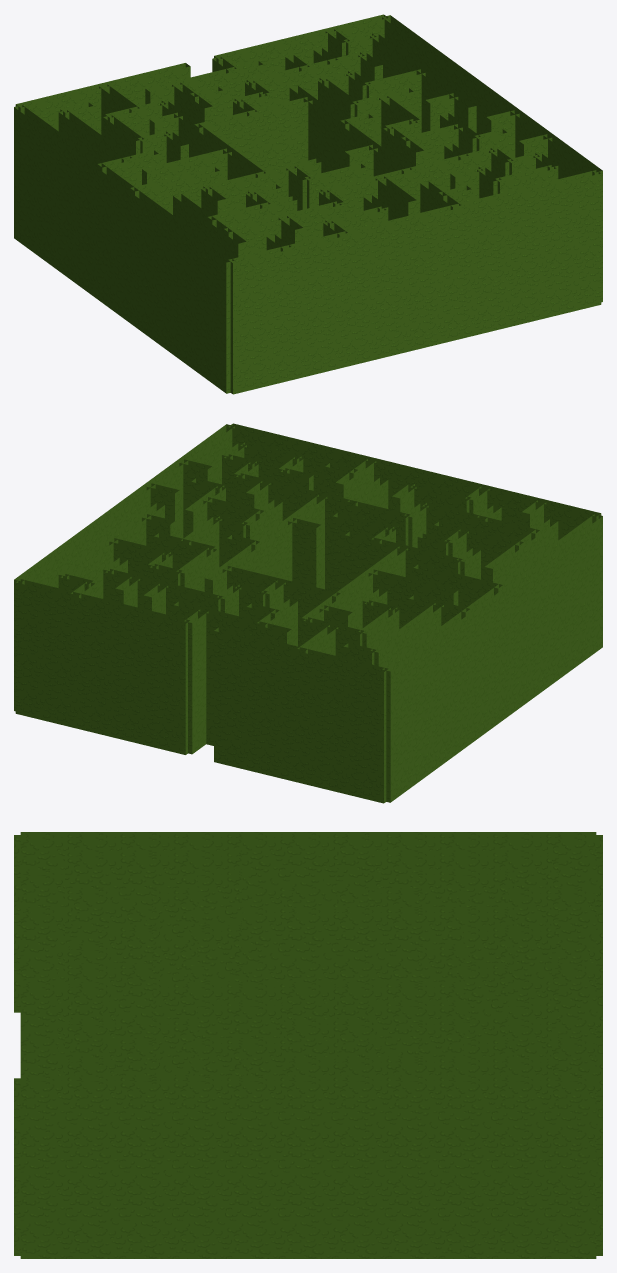
File: Maze-1 But better 1.fbx
3 renders of one model, top to bottom at view 1: azimuth 30°, elevation 25°; view 2: azimuth 150°, elevation 25°; view 3: azimuth 270°, elevation 25°, orthographic. The views are drawn at different scales.
Parts seen in each view (by area): view 1: Curve; view 2: Curve; view 3: Curve.
Boxes of the visible parts, box(x1,y1,x2,y2) form: Curve: box(14, 14, 602, 394); Curve: box(14, 423, 602, 803); Curve: box(14, 832, 602, 1258).
Size of the model in its own units: 901 by 300 by 900.
